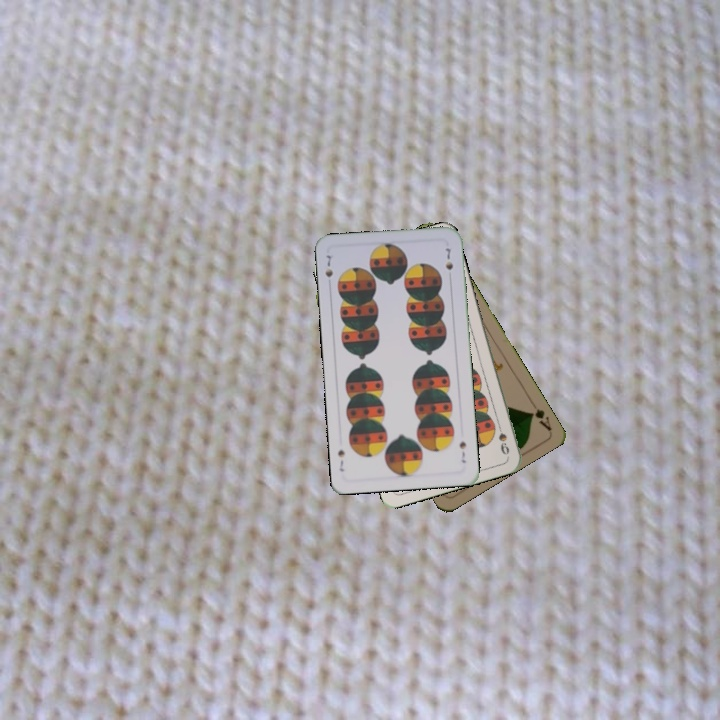GA: (526, 405, 554, 433)
S7: (321, 251, 336, 280), (455, 437, 469, 465)
S9: (493, 418, 512, 458)
